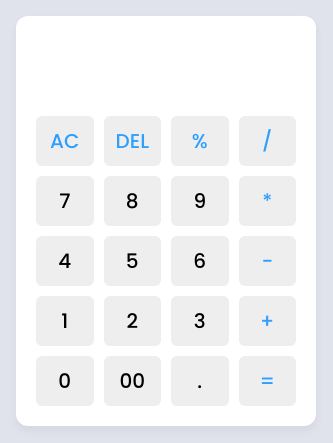
Test case: App Component › performs addition correctly
Click the button "2". click: (132, 321)
box: [104,296,161,346]
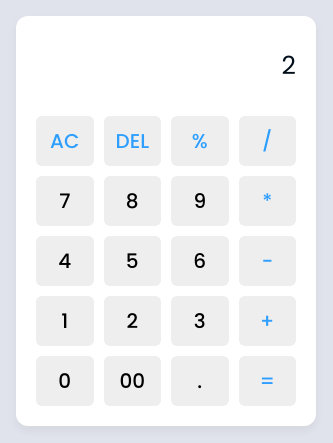
Click the button "+". click: (267, 321)
box: [238,296,296,346]
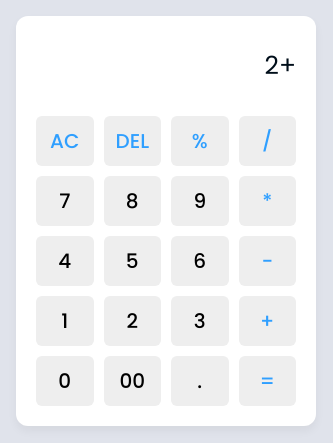
Click the button "3". click: (200, 321)
box: [171,296,228,346]
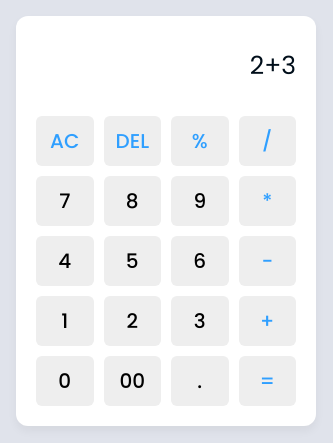
Click the button "=". click: (267, 381)
box: [238,356,296,406]
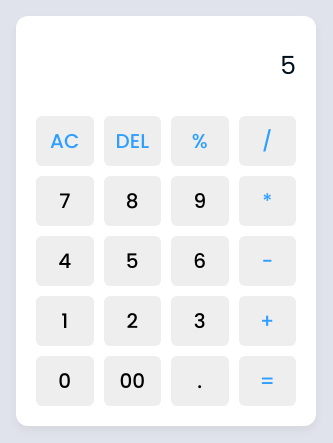
Check: the field holds "5", box [36,26,296,106]
